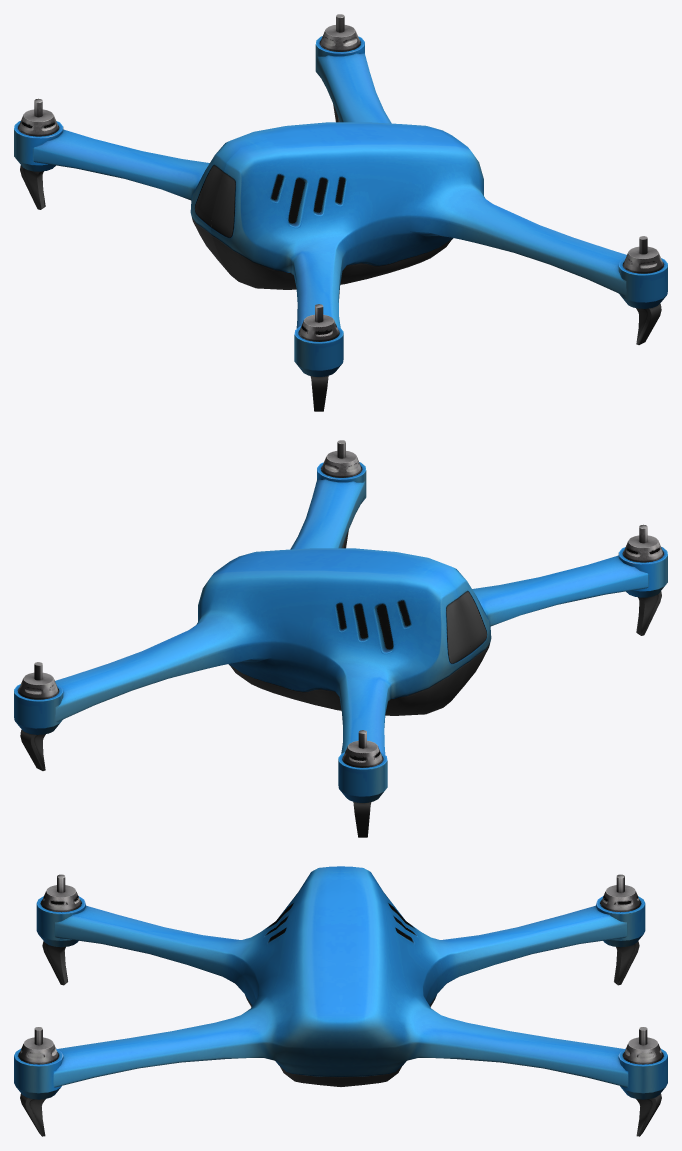
File: x3_blue.dae
3 views of the same model, one above another, from view 1: azimuth 30°, elevation 25°; view 2: azimuth 150°, elevation 25°; view 3: azimuth 270°, elevation 25° (orthographic).
Parts seen in each view (by area): view 1: X3; view 2: X3; view 3: X3.
Part boxes in pixels (<box>): X3: <box>14,14,667,411</box>; X3: <box>14,440,667,837</box>; X3: <box>14,866,667,1136</box>.
Bounding box in the file's own units: 0.2995 × 0.4778 × 0.1188.
Materials: 1 (1 with a texture image).
